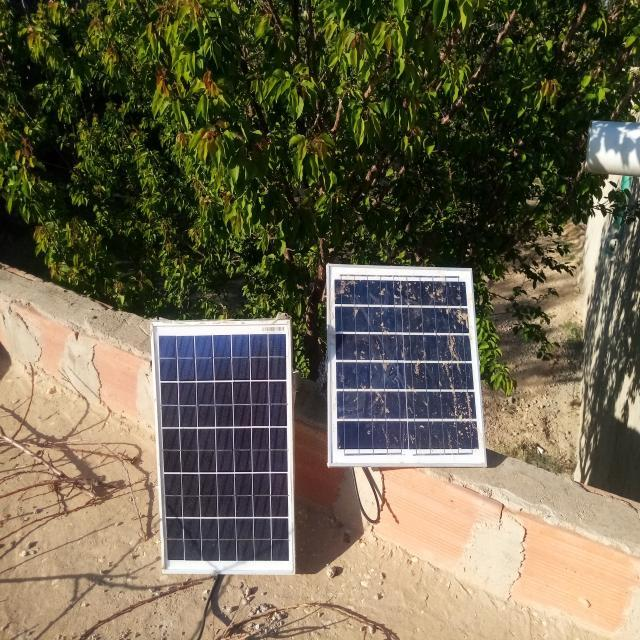faulty: (151, 321, 295, 574), (328, 265, 487, 468)
